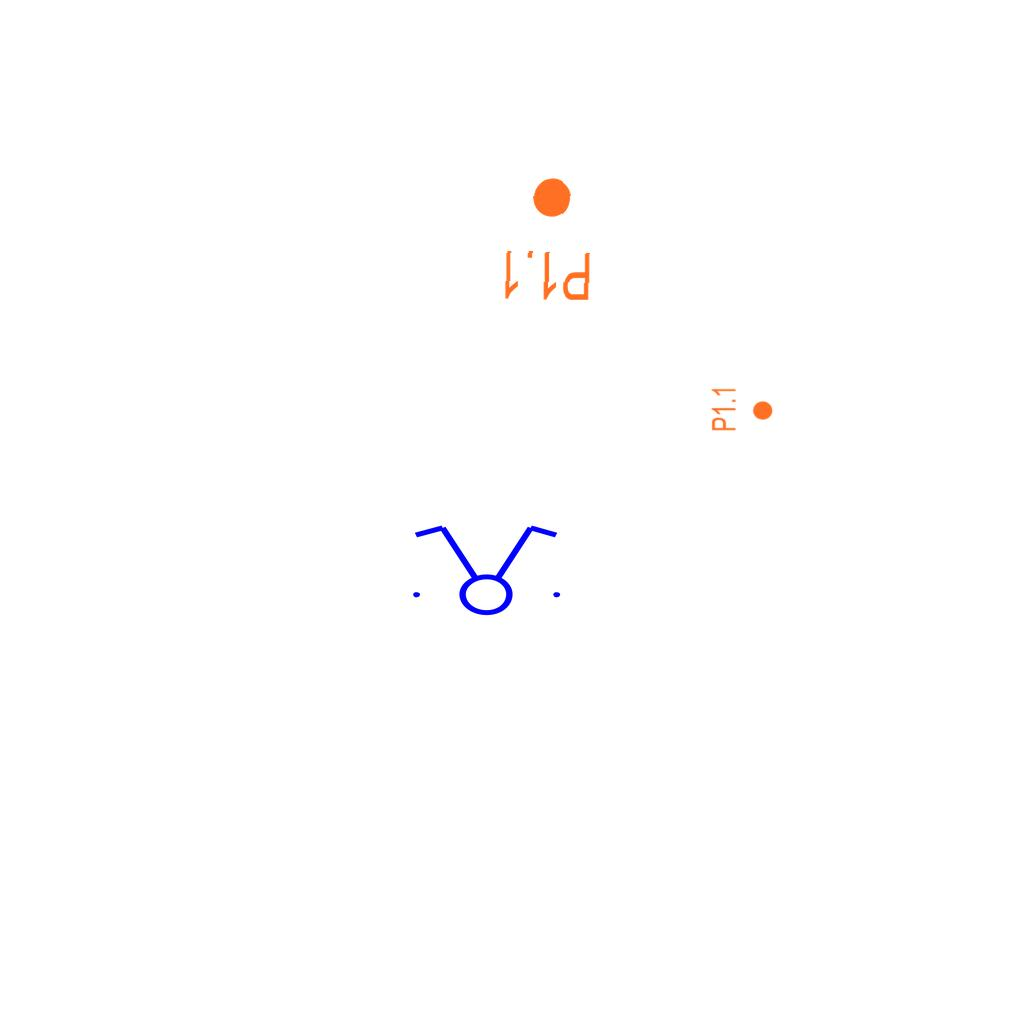Downlight_LED_Einbauleuchten_Flur: (498, 173, 597, 305), (710, 386, 774, 432)
Serienschalter: (401, 521, 569, 617)
